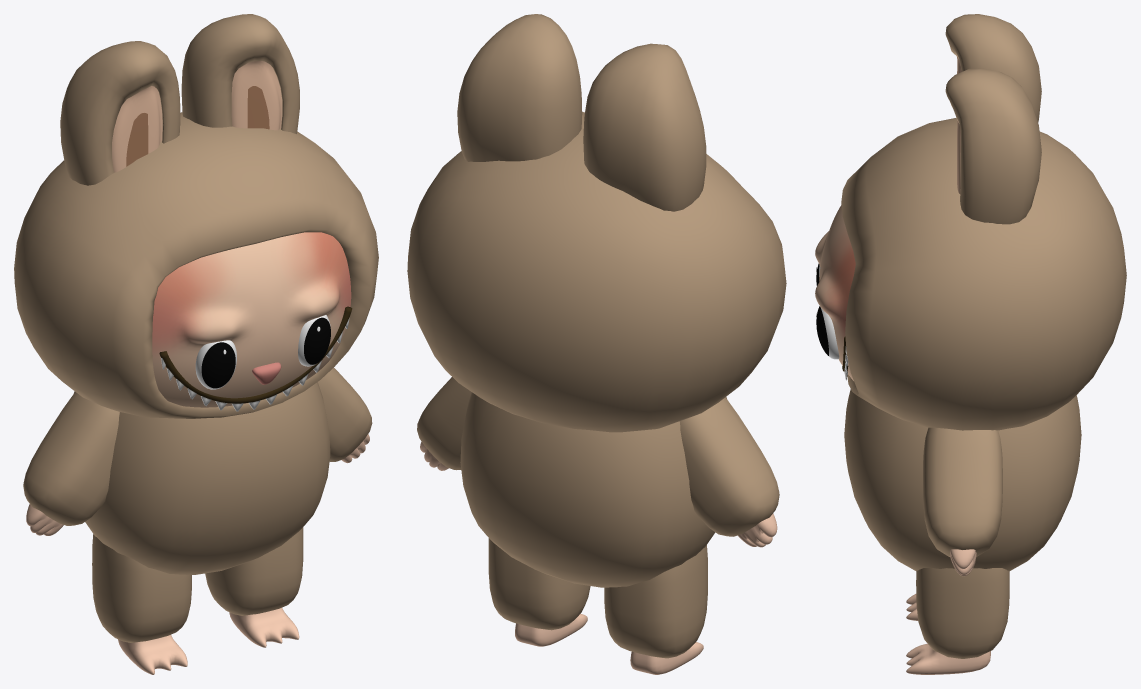
The model's file is brownLabubu.glb.
3 renders of one model, left to right at view 1: azimuth 30°, elevation 25°; view 2: azimuth 150°, elevation 25°; view 3: azimuth 270°, elevation 25°, orthographic. The views are drawn at different scales.
Visible parts, largest first — view 1: headcover.005, body.005, head.005, earscover.005, legs.005, arms.005, ears.005, foot.005, eyes.002, lip.005, hands.005; view 2: headcover.005, body.005, earscover.005, legs.005, arms.005, foot.005, hands.005; view 3: headcover.005, body.005, earscover.005, arms.005, legs.005, head.005, foot.005, eyes.002, hands.005.
Part boxes in pixels (x1,y1,x2,y2): headcover.005: (14, 112, 378, 418); body.005: (74, 382, 330, 574); head.005: (152, 232, 351, 407); earscover.005: (60, 14, 299, 185); legs.005: (92, 527, 303, 642); arms.005: (23, 367, 372, 525); ears.005: (112, 61, 282, 172); foot.005: (118, 607, 299, 674); eyes.002: (195, 315, 330, 389); lip.005: (159, 306, 352, 411); hands.005: (26, 434, 369, 535); headcover.005: (407, 112, 786, 432); body.005: (460, 392, 726, 587); earscover.005: (457, 14, 706, 211); legs.005: (488, 538, 707, 658); arms.005: (417, 377, 779, 536); foot.005: (515, 613, 703, 674); hands.005: (420, 442, 777, 547); headcover.005: (841, 118, 1126, 430); body.005: (844, 389, 1081, 570); earscover.005: (945, 14, 1041, 224); arms.005: (923, 427, 1002, 556); legs.005: (916, 568, 1009, 658); head.005: (815, 205, 855, 380); foot.005: (906, 594, 990, 674); eyes.002: (816, 263, 839, 359); hands.005: (950, 549, 976, 576).
Size of the model in its own units: 2.03 by 3.43 by 1.63.
10 materials, 1 textured.
